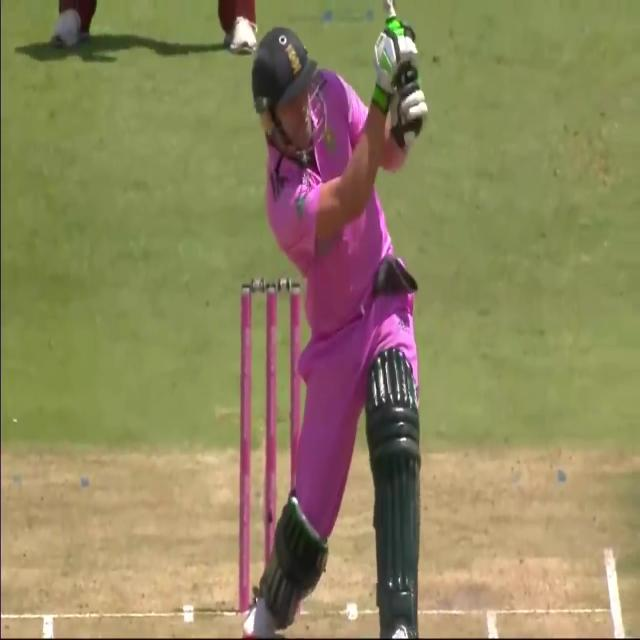Ball: (249, 0, 424, 636)
